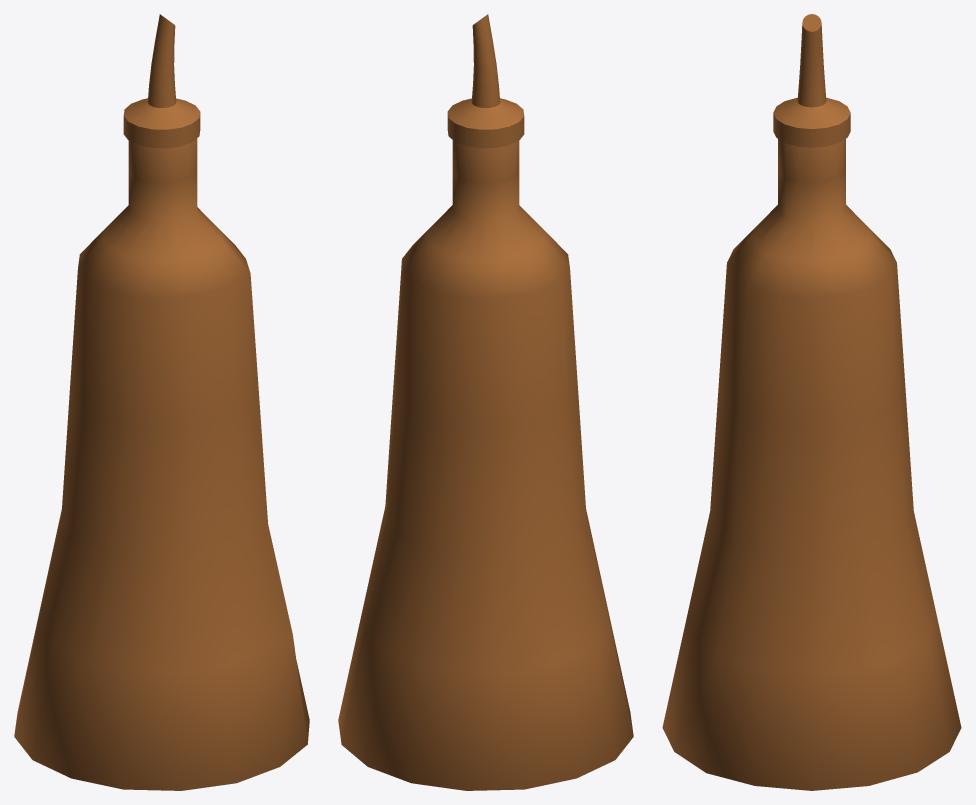
Rendered from MOD_BAR OrangeJuice.fbx.
The picture shows the model from 3 angles, left to right: view 1: azimuth 30°, elevation 25°; view 2: azimuth 150°, elevation 25°; view 3: azimuth 270°, elevation 25°; orthographic projection.
Parts seen in each view (by area): view 1: orange_juice, pourer3; view 2: orange_juice, pourer3; view 3: orange_juice, pourer3.
Part boxes in pixels (x1,y1,x2,y2): orange_juice: (14,138,309,790); pourer3: (123,14,200,148); orange_juice: (338,140,633,790); pourer3: (447,14,524,148); orange_juice: (662,139,961,790); pourer3: (773,14,850,147).
Bounding box in the file's own units: 14.88 × 39.17 × 14.88.
